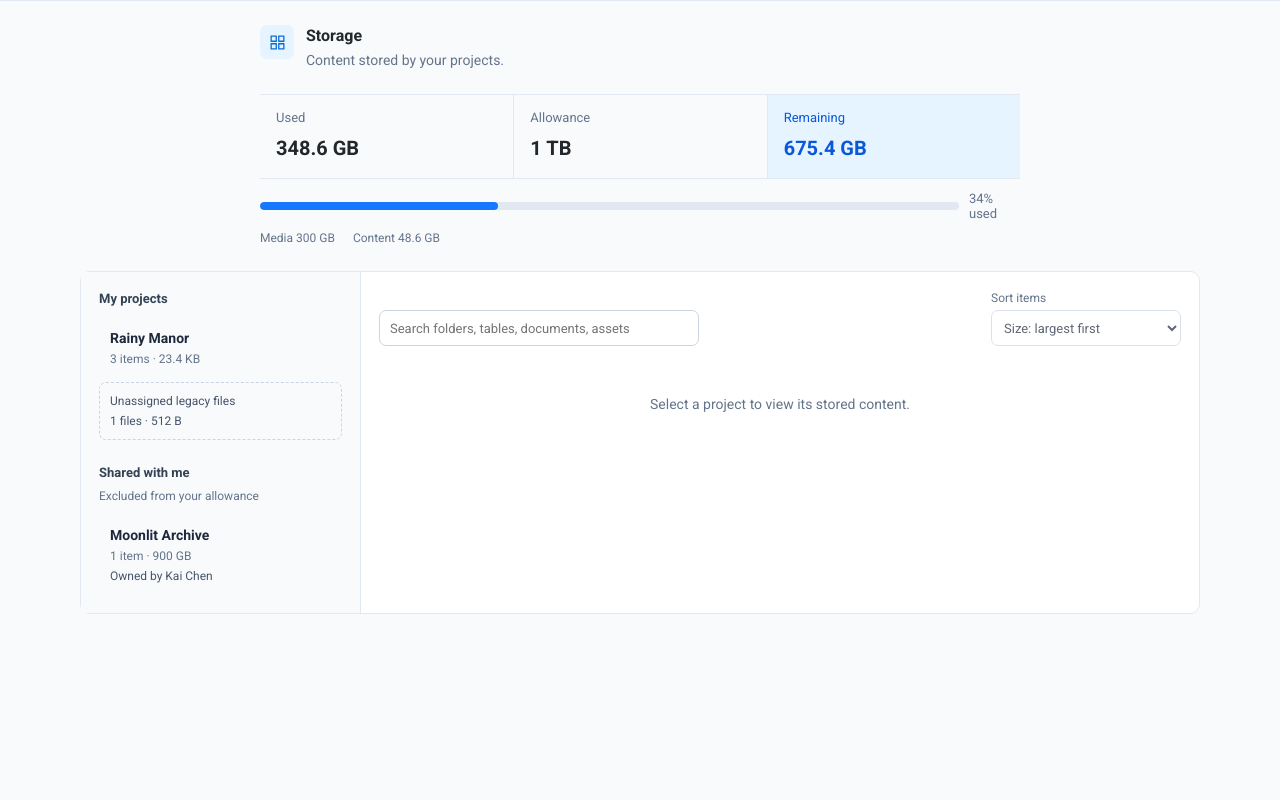
Test case: AccountStorageSection › shows only Table, Document, and Assets rows at the project level
Expected: the text "348.6 GB" is shown, left=276, top=136, right=359, bottom=160
Click the button "Rainy Manor 3 items · 23.4 KB" at (220, 348), box left=99, top=318, right=342, bottom=378
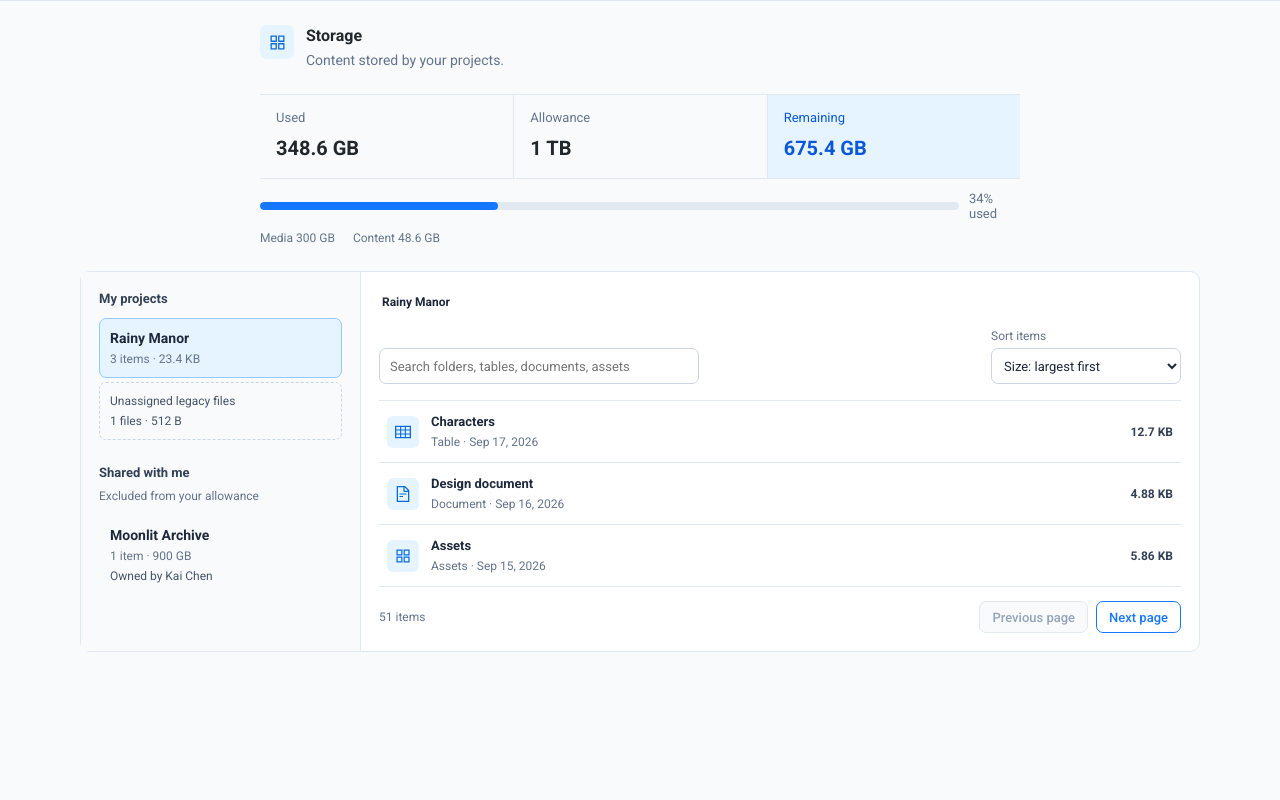
Result: the text "Characters" is shown at left=431, top=414, right=495, bottom=428
Result: the text "Design document" is shown at left=431, top=476, right=533, bottom=490
Result: the text "Assets" is shown at left=431, top=538, right=471, bottom=552
